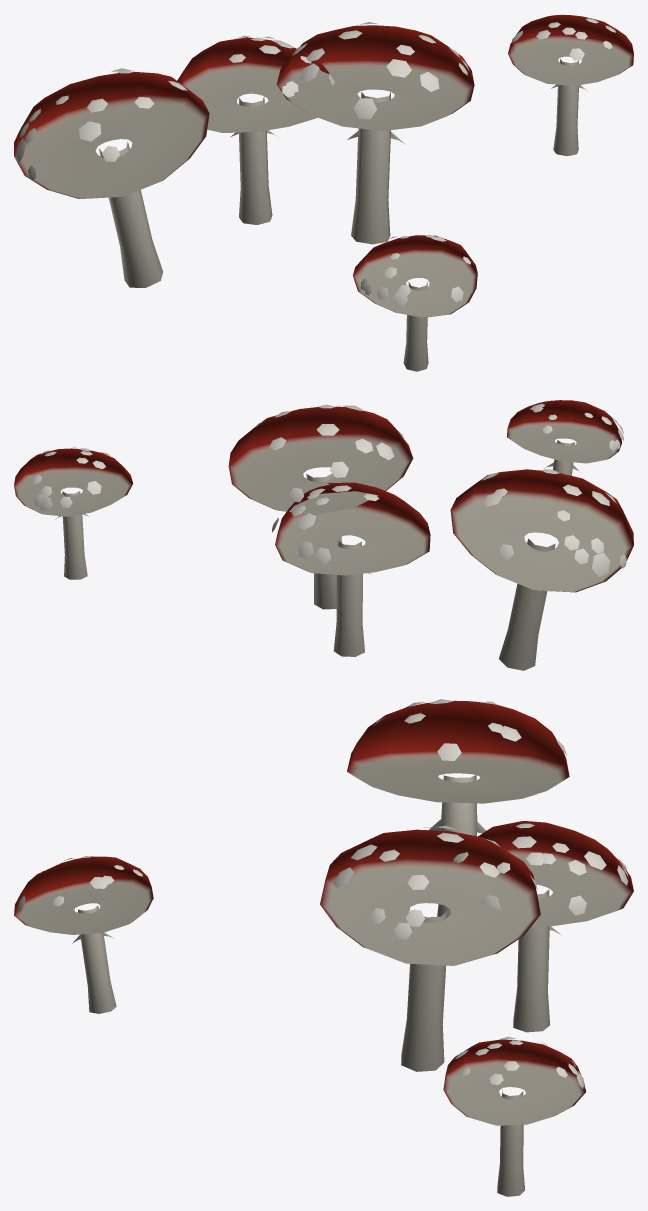
The model's file is mushroom-fly-agaric-b.lod0.glb.
3 renders of one model, top to bottom at view 1: azimuth 30°, elevation 25°; view 2: azimuth 150°, elevation 25°; view 3: azimuth 270°, elevation 25°, orthographic. The views are drawn at different scales.
Parts seen in each view (by area): view 1: mushroom-fly-agaric-b.lod0; view 2: mushroom-fly-agaric-b.lod0; view 3: mushroom-fly-agaric-b.lod0.
Boxes of the visible parts, x1,y1,x2,y2 form: mushroom-fly-agaric-b.lod0: (14, 14, 633, 371); mushroom-fly-agaric-b.lod0: (14, 400, 633, 670); mushroom-fly-agaric-b.lod0: (14, 699, 633, 1196).
Bounding box in the file's own units: 0.5116 × 0.1583 × 0.3924.
